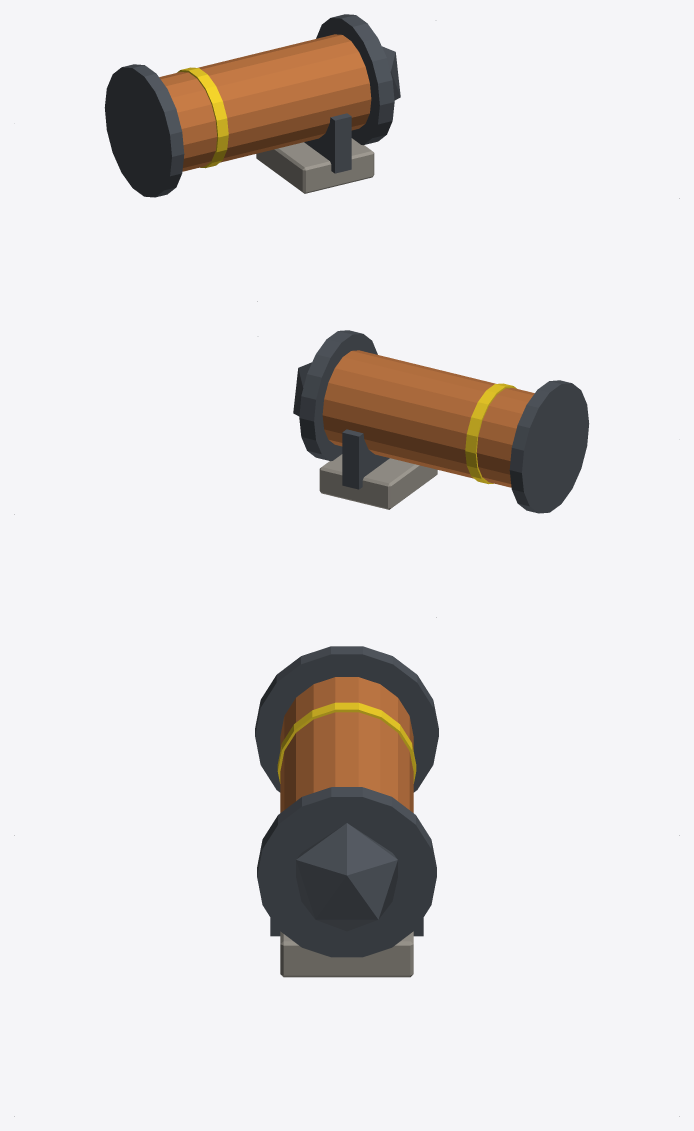
File: tuyau_bout_t1.glb
3 views of the same model, one above another, from view 1: azimuth 30°, elevation 25°; view 2: azimuth 150°, elevation 25°; view 3: azimuth 270°, elevation 25° (orthographic). The views are drawn at different scales.
Parts seen in each view (by area): view 1: pieces_cuivre.020, pieces_acier_sombre.050, pieces_beton.030, pieces_rive_t1.016; view 2: pieces_cuivre.020, pieces_acier_sombre.050, pieces_beton.030, pieces_rive_t1.016; view 3: pieces_acier_sombre.050, pieces_cuivre.020, pieces_beton.030, pieces_rive_t1.016.
Part boxes in pixels (x1,y1,x2,y2): pieces_cuivre.020: [159, 34, 371, 171]; pieces_acier_sombre.050: [104, 14, 400, 197]; pieces_beton.030: [256, 138, 374, 193]; pieces_rive_t1.016: [177, 67, 228, 168]; pieces_cuivre.020: [322, 350, 534, 487]; pieces_acier_sombre.050: [293, 330, 589, 513]; pieces_beton.030: [319, 454, 437, 509]; pieces_rive_t1.016: [465, 383, 516, 484]; pieces_acier_sombre.050: [255, 646, 438, 957]; pieces_cuivre.020: [280, 677, 413, 812]; pieces_beton.030: [280, 931, 413, 977]; pieces_rive_t1.016: [277, 702, 416, 783].
Size of the model in its own units: 1 by 0.3159 by 1.
